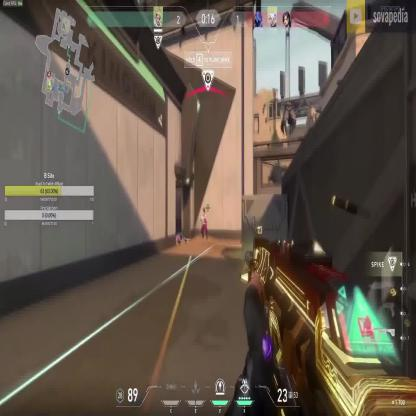enemy: (199, 207, 208, 238)
enemy_head: (202, 209, 206, 215)
